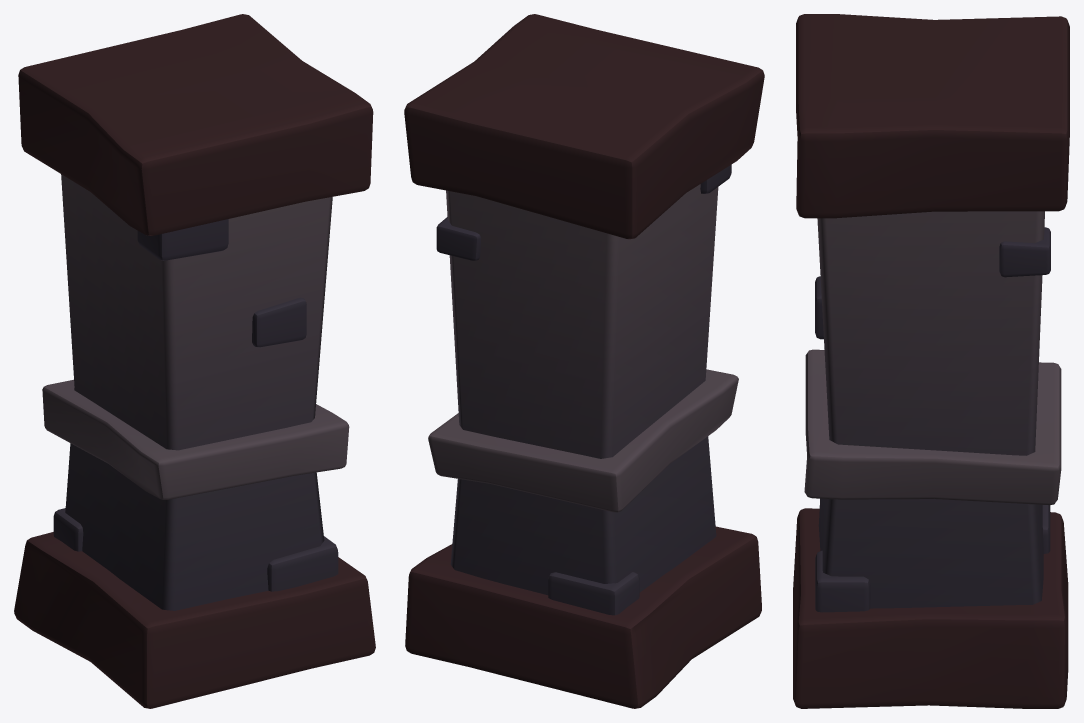
Rendered from SM_Pillar.fbx.
3 views of the same model, side by side, from view 1: azimuth 30°, elevation 25°; view 2: azimuth 150°, elevation 25°; view 3: azimuth 270°, elevation 25° (orthographic). The views are drawn at different scales.
Visible parts, largest first — view 1: SM_Pillar; view 2: SM_Pillar; view 3: SM_Pillar.
Part boxes in pixels (bbox=[...]): SM_Pillar: bbox=[14, 14, 375, 708]; SM_Pillar: bbox=[404, 14, 764, 708]; SM_Pillar: bbox=[793, 14, 1069, 708].
Size of the model in its own units: 75.47 by 167 by 72.05.
1 material, 1 textured.
